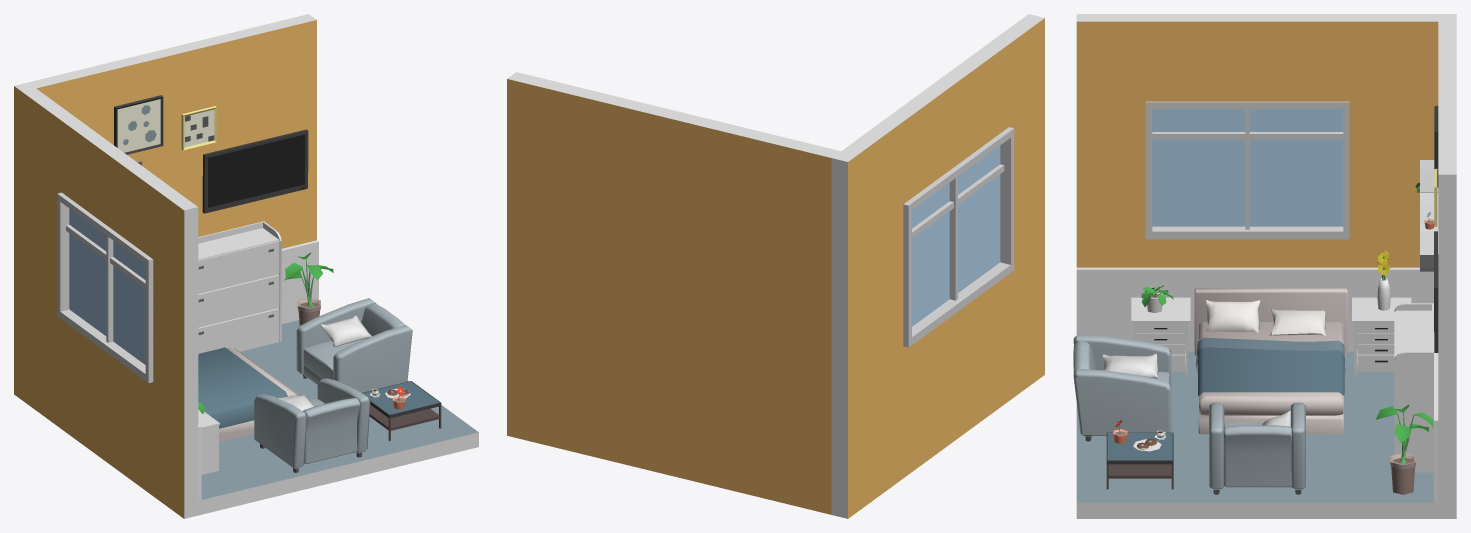
Rendered from room_28.glb.
3 renders of one model, left to right at view 1: azimuth 30°, elevation 25°; view 2: azimuth 150°, elevation 25°; view 3: azimuth 270°, elevation 25°, orthographic. The views are drawn at different scales.
Visible parts, largest first — view 1: Walls_010.001, Walls_010.002, Walls_010.003, Walls_116.025, window_019.004, shelf_030.002, Walls_010.004, Walls_010.005, armchair_008.001, armchair_008.002, electronics_027.007, bed_017.003 (+6 smaller); view 2: Walls_010.001, Walls_010.002, window_019.004, Walls_010.004, Walls_010.003, Walls_010.005; view 3: window_019.004, Walls_116.025, Walls_010.002, bed_017.003, Walls_010.003, Walls_010.005, Walls_003.060, Walls_010.001, armchair_008.002, armchair_008.001, shelf_030.002, Walls_010.004 (+11 smaller).
Boxes of the visible parts, bbox=[...] form: Walls_010.001: bbox=[28, 14, 316, 248]; Walls_010.002: bbox=[14, 82, 75, 429]; Walls_010.003: bbox=[151, 183, 198, 518]; Walls_116.025: bbox=[198, 320, 478, 515]; window_019.004: bbox=[57, 192, 153, 383]; shelf_030.002: bbox=[198, 221, 281, 353]; Walls_010.004: bbox=[62, 320, 151, 494]; Walls_010.005: bbox=[62, 118, 165, 257]; armchair_008.001: bbox=[296, 298, 412, 392]; armchair_008.002: bbox=[254, 378, 370, 472]; electronics_027.007: bbox=[202, 129, 308, 213]; bed_017.003: bbox=[198, 347, 296, 442]; Walls_010.001: bbox=[507, 72, 840, 514]; Walls_010.002: bbox=[831, 117, 904, 518]; window_019.004: bbox=[903, 127, 1014, 347]; Walls_010.004: bbox=[904, 276, 1007, 477]; Walls_010.003: bbox=[991, 14, 1044, 401]; Walls_010.005: bbox=[888, 41, 1007, 203]; window_019.004: bbox=[1145, 101, 1349, 239]; Walls_116.025: bbox=[1076, 351, 1438, 518]; Walls_010.002: bbox=[1348, 14, 1456, 267]; bed_017.003: bbox=[1194, 288, 1347, 434]; Walls_010.003: bbox=[1076, 14, 1148, 267]; Walls_010.005: bbox=[1149, 14, 1347, 101]; Walls_003.060: bbox=[1076, 267, 1433, 351]; Walls_010.001: bbox=[1438, 21, 1456, 518]; armchair_008.002: bbox=[1073, 334, 1171, 441]; armchair_008.001: bbox=[1209, 402, 1305, 494]; shelf_030.002: bbox=[1394, 303, 1433, 472]; Walls_010.004: bbox=[1149, 239, 1347, 267].
Bounding box in the file's own units: 4.26 × 4.2 × 4.23.
1 material, 1 textured.
